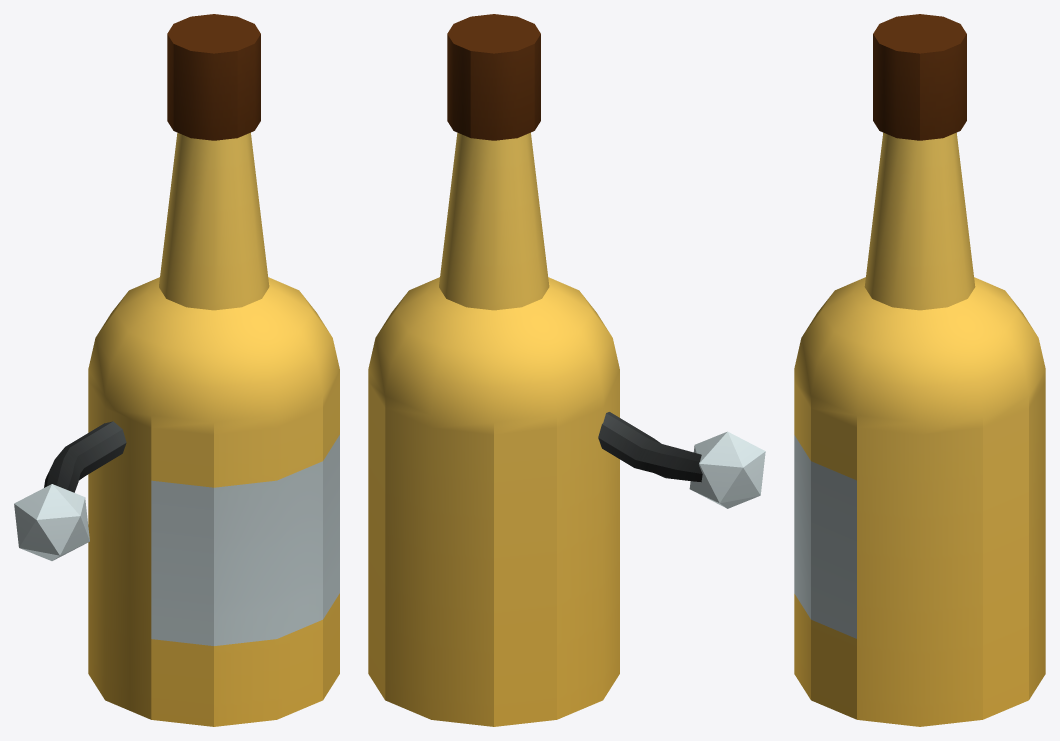
The model's file is botella_001.fbx.
3 views of the same model, side by side, from view 1: azimuth 30°, elevation 25°; view 2: azimuth 150°, elevation 25°; view 3: azimuth 270°, elevation 25° (orthographic).
Visible parts, largest first — view 1: botella.001; view 2: botella.001; view 3: botella.001.
Part boxes in pixels (x1,y1,x2,y2): botella.001: [14, 14, 339, 726]; botella.001: [368, 14, 765, 726]; botella.001: [794, 14, 1045, 726].
Size of the model in its own units: 39.63 by 71.31 by 25.41.
